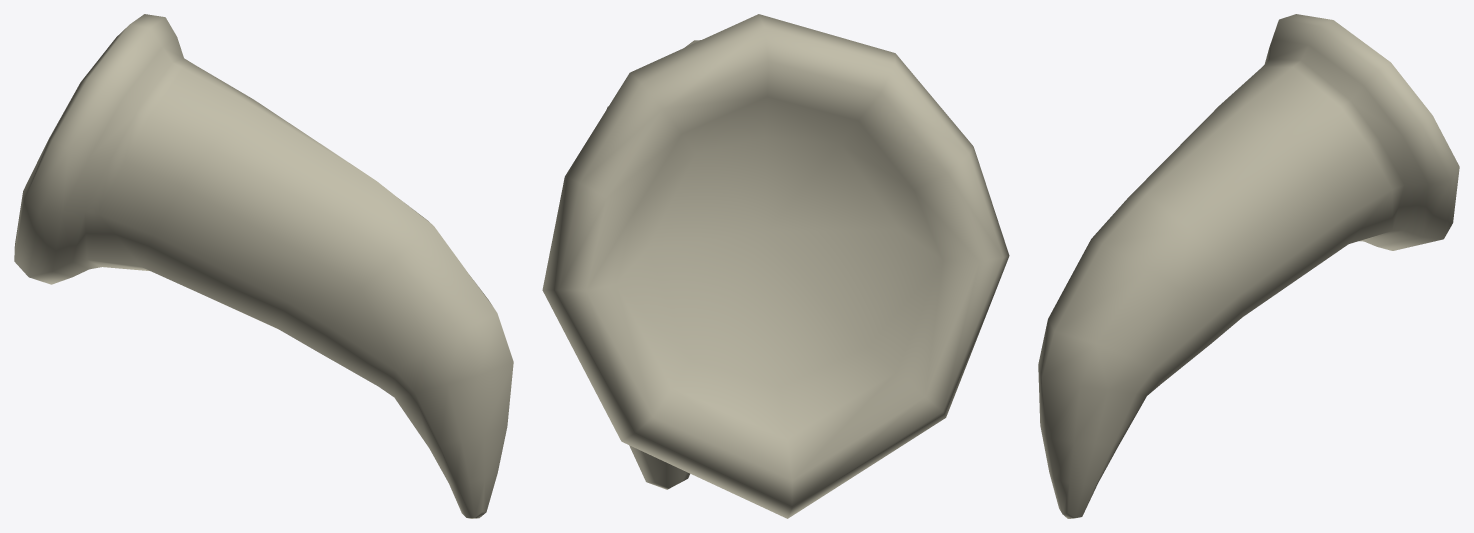
3 renders of one model, left to right at view 1: azimuth 30°, elevation 25°; view 2: azimuth 150°, elevation 25°; view 3: azimuth 270°, elevation 25°, orthographic. The views are drawn at different scales.
Parts seen in each view (by area): view 1: model_1.087; view 2: model_1.087; view 3: model_1.087.
Part boxes in pixels (<box>): model_1.087: <box>14,14,513,518</box>; model_1.087: <box>542,14,1009,518</box>; model_1.087: <box>1038,14,1459,518</box>.
Bounding box in the file's own units: 3.34 × 3.87 × 3.63.
